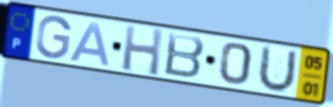0: (217, 41, 255, 87)
A: (67, 20, 112, 69)
B: (162, 31, 207, 81)
G: (34, 15, 73, 61)
H: (120, 24, 165, 79)
U: (255, 44, 299, 95)
